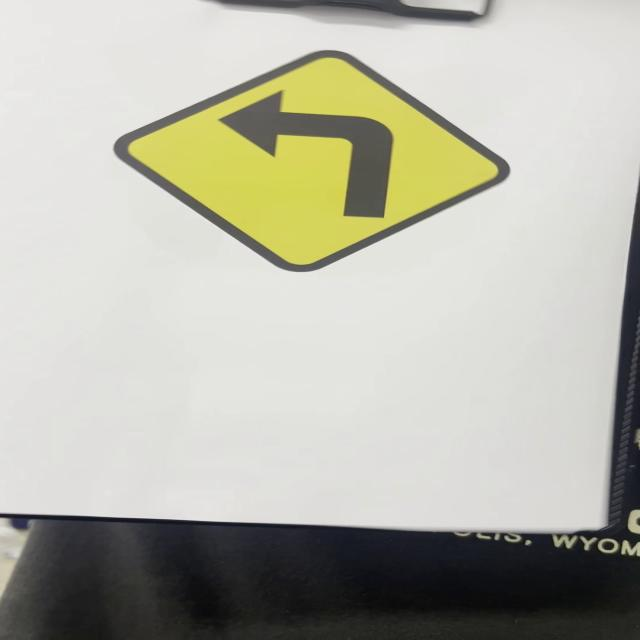left: (113, 47, 513, 275)
